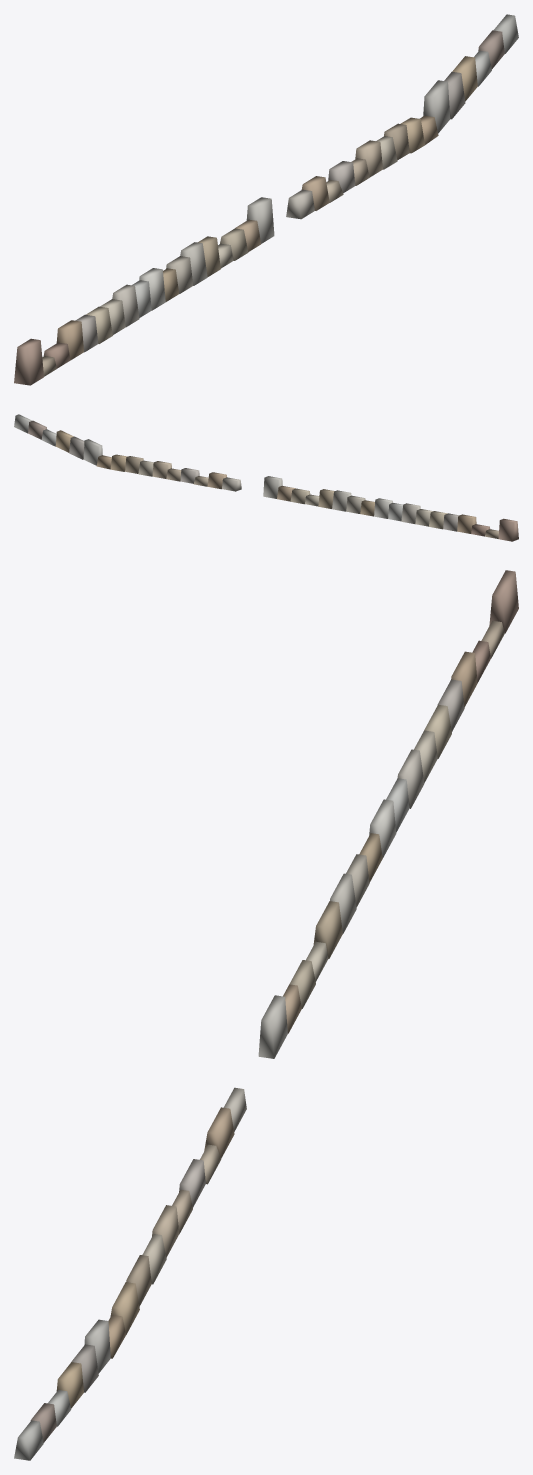
The model's file is farm_3_19_collision.glb.
3 views of the same model, one above another, from view 1: azimuth 90°, elevation 25°; view 2: azimuth 150°, elevation 25°; view 3: azimuth 270°, elevation 25° (orthographic). The views are drawn at different scales.
Parts seen in each view (by area): view 1: geometry_0; view 2: geometry_0; view 3: geometry_0.
Boxes of the visible parts, x1,y1,x2,y2 form: geometry_0: [14, 14, 518, 385]; geometry_0: [14, 414, 518, 541]; geometry_0: [14, 570, 518, 1460].
Bounding box in the file's own units: 53.49 × 11.96 × 18.95.
